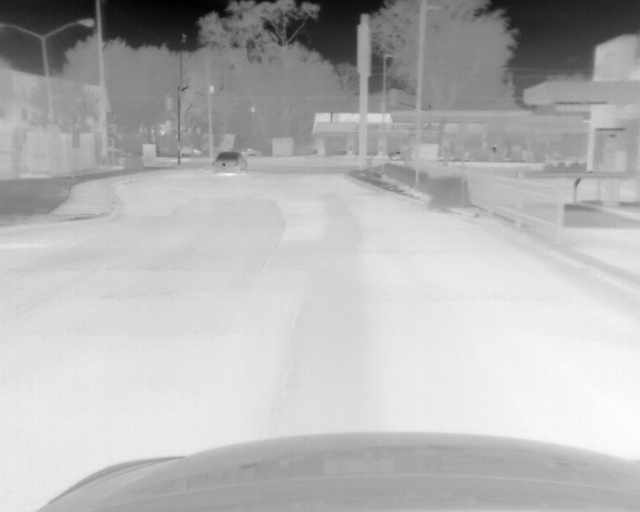car: (212, 151, 248, 176)
